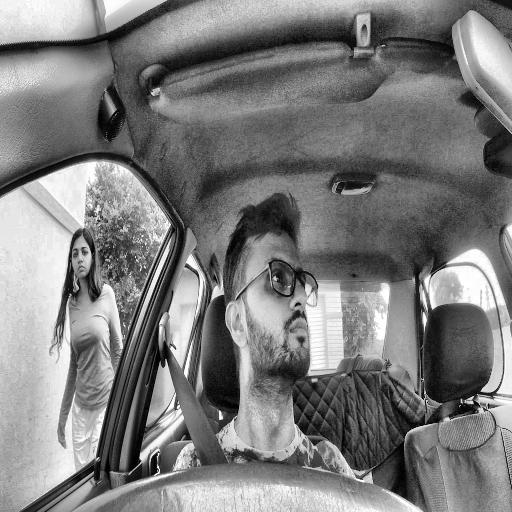awake: (224, 191, 318, 403)
